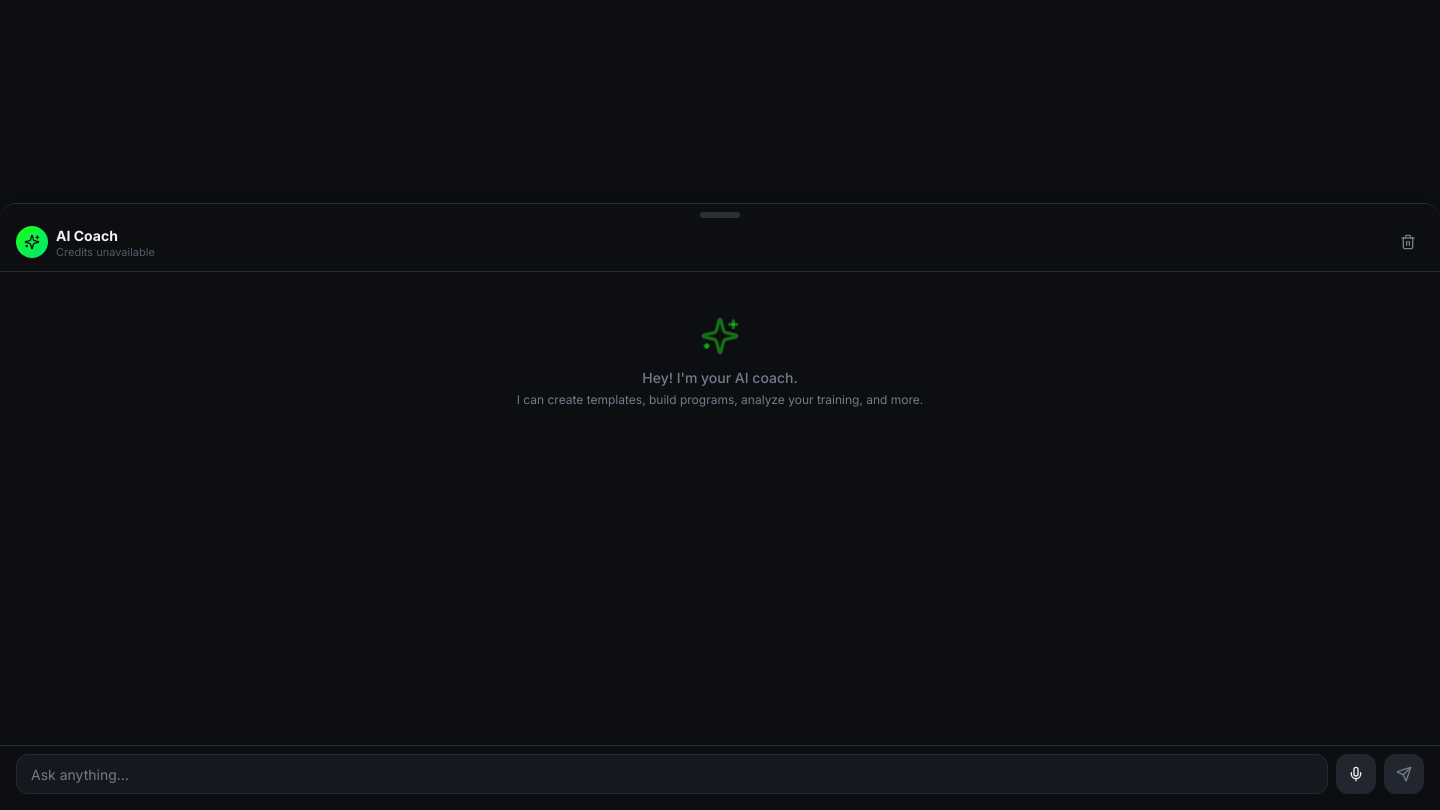
AI coach voice input › keeps listening across sentences and folds them in once the user goes quiet
Later steps or results of the test are not shown.
What coordinates should you click on to do the following:
click the button named "Start voice input"
I would click on:
 (1356, 774)
Its box is [1336,754,1376,794].
Wait 7800 ms
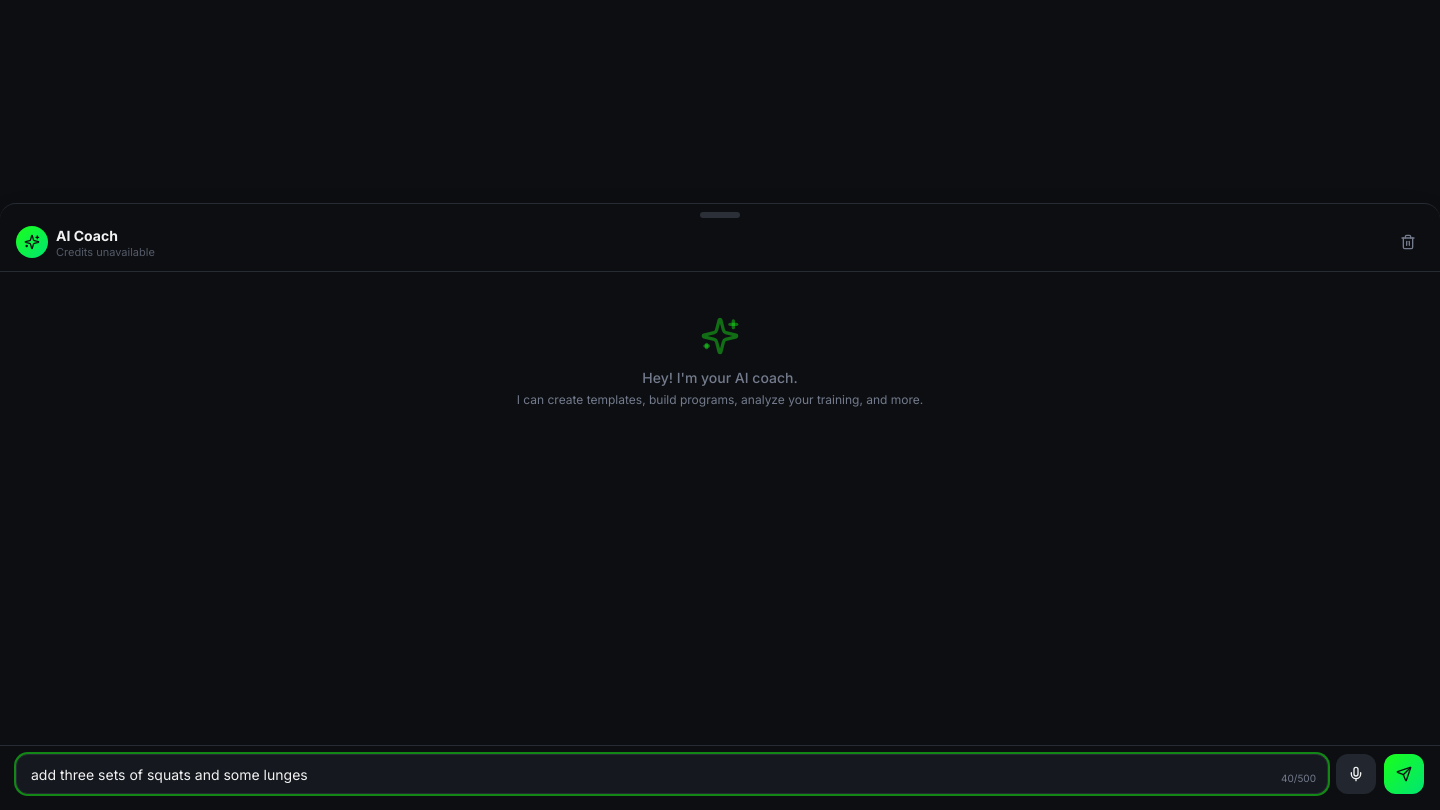
Expected: the text box holds "add three sets of squats and some lunges", [16,754,1328,794]
